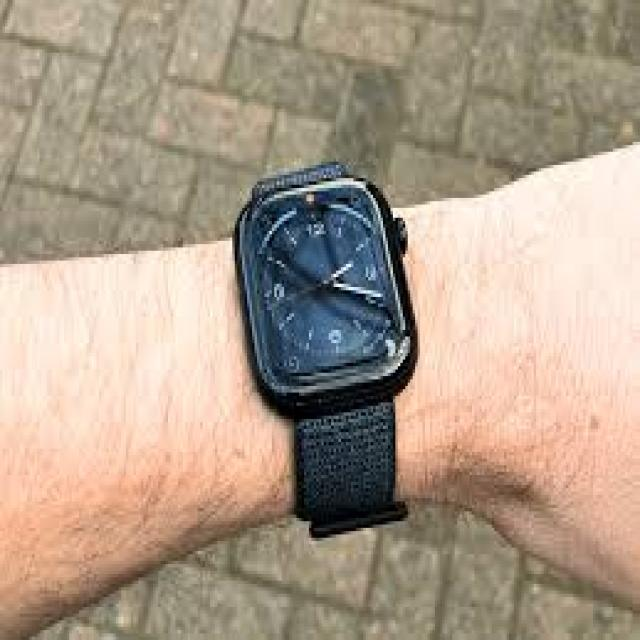objects: (233, 165, 421, 538)
